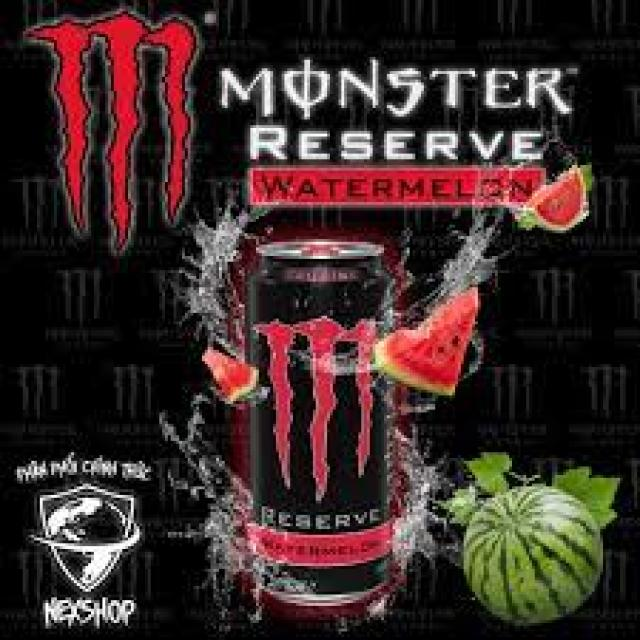Cans: (231, 228, 416, 625)
